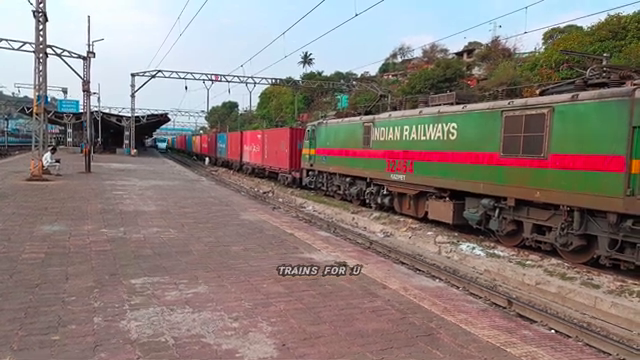Engine: (379, 148, 430, 179)
